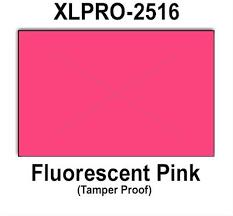pink_zone: (16, 27, 217, 159)
